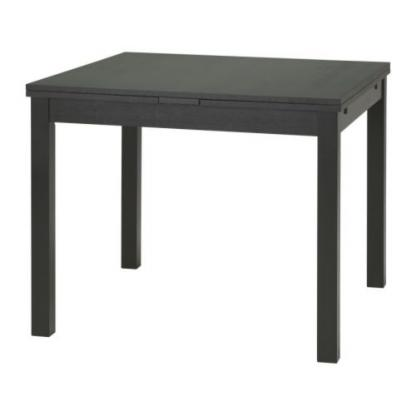Table: (22, 43, 395, 366)
